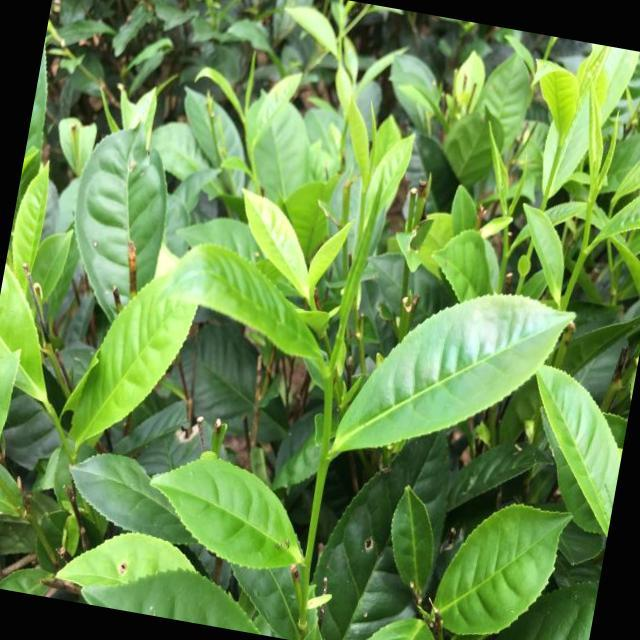Stem: (586, 199, 595, 210), (308, 298, 316, 309), (503, 212, 511, 217), (244, 121, 249, 128)
